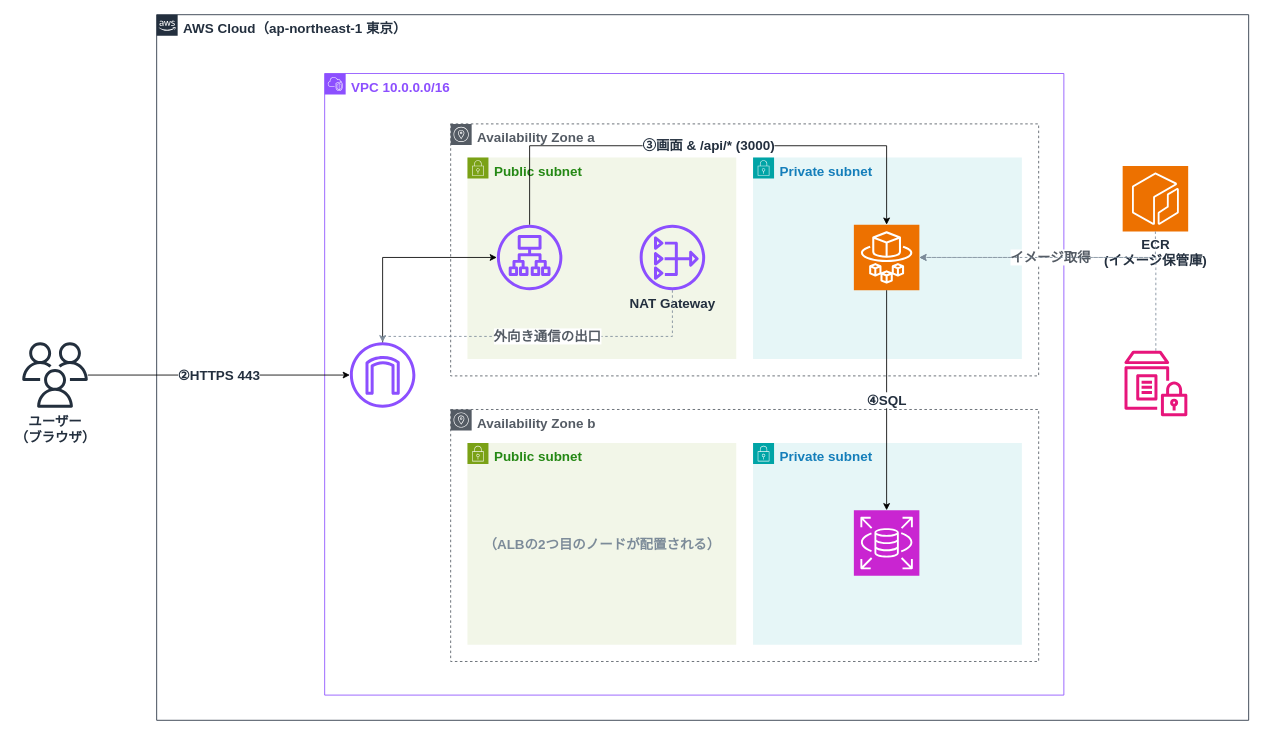
Some shapes in this 1263 by 735 pixel diagram are drawn without their labels. Here are the shapes that lost their labels. From the top down, the centre of each, then its label:
At (x=529, y=257): "ALB".
At (x=886, y=257): "Next.js (ECS on Fargate) 画面 + Route Handlers".
At (x=382, y=374): "Internet Gateway".
At (x=1155, y=383): "パラメータストア (SSM)".
At (x=886, y=542): "RDS (PostgreSQL)".
